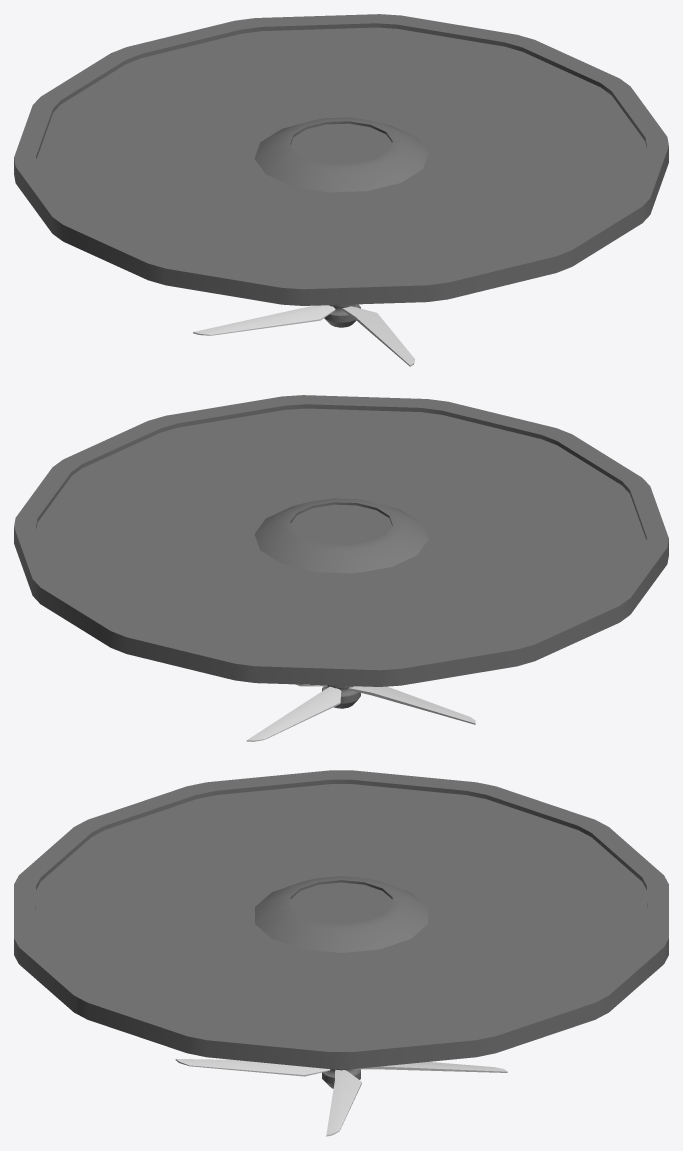
The model's file is hubMain.fbx.
3 renders of one model, top to bottom at view 1: azimuth 30°, elevation 25°; view 2: azimuth 150°, elevation 25°; view 3: azimuth 270°, elevation 25°, orthographic.
Visible parts, largest first — view 1: polySurface2, polySurface9; view 2: polySurface2, polySurface9; view 3: polySurface2, polySurface9.
Boxes of the visible parts, <box> form: polySurface2: <box>14,14,668,327</box>; polySurface9: <box>193,305,414,366</box>; polySurface2: <box>14,395,668,708</box>; polySurface9: <box>246,684,475,741</box>; polySurface2: <box>14,770,668,1088</box>; polySurface9: <box>175,1059,507,1136</box>.
Bounding box in the file's own units: 64.32 × 19.47 × 63.17.
Materials: 1 (1 with a texture image).
